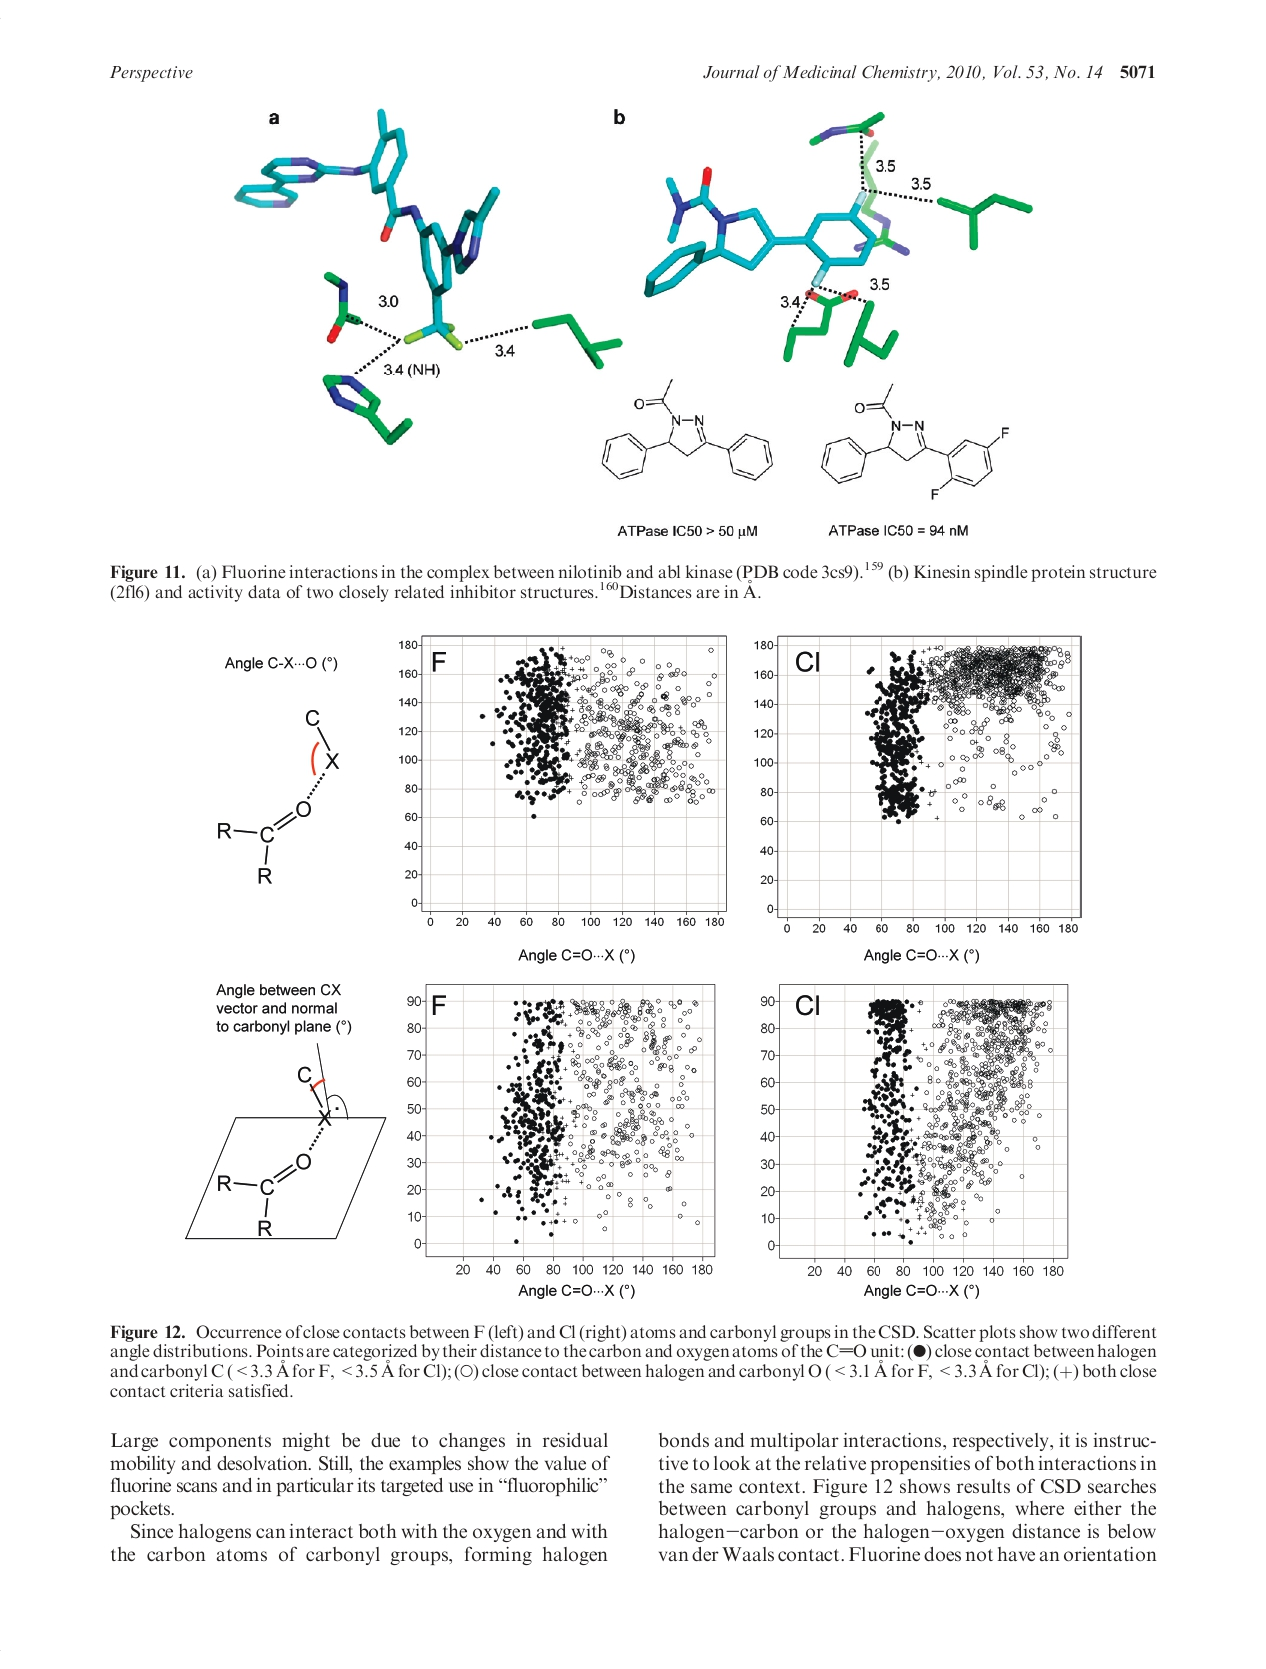exist_molecular: (213, 1055, 346, 1238), (818, 379, 1009, 500), (213, 704, 344, 876), (596, 374, 777, 489)
